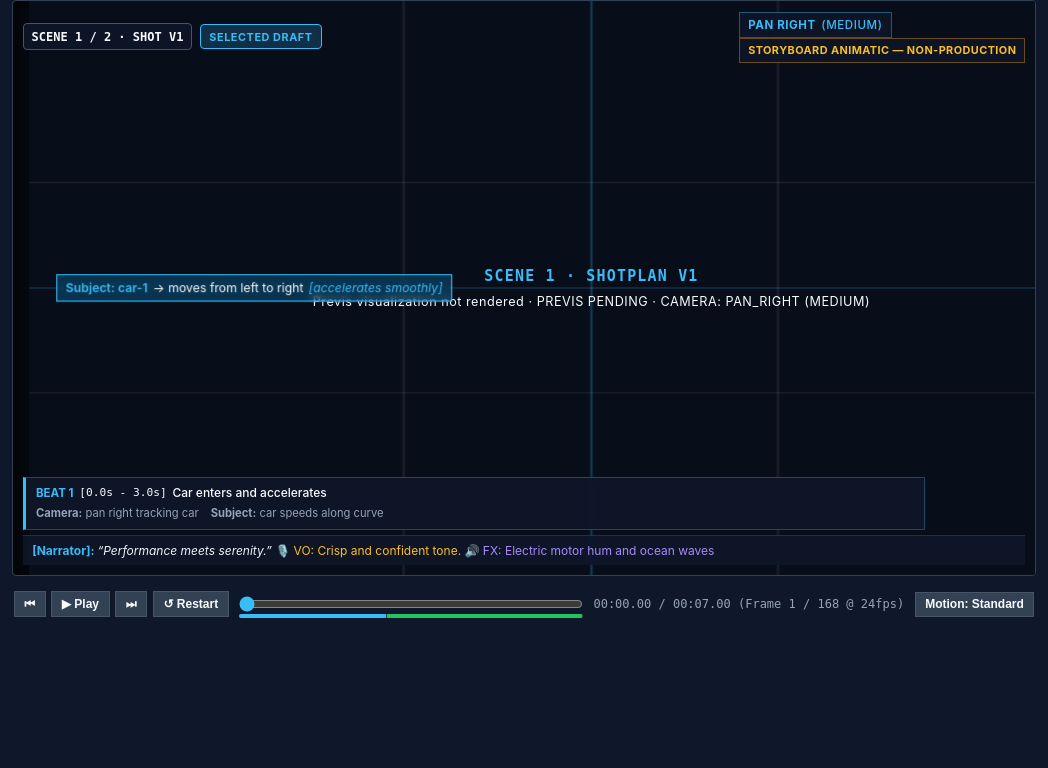
Scenario: CampaignAnimaticPlayer Component › scrubs continuously across scenes and transitions between segments
This screenshot has width=1048, height=768.
Expected: the text with test id "animatic-scene-ordinal" shows "SCENE 1 / 2", [23,24,192,50]
Expected: the text with test id "animatic-shot-approval-badge" reads "SELECTED DRAFT", [209,30,313,44]
# Scrub to 3500ms (scene 2)
Set the slider with test id "animatic-scrubber" to "3500" at coordinates (411, 604), box [239,596,583,612]
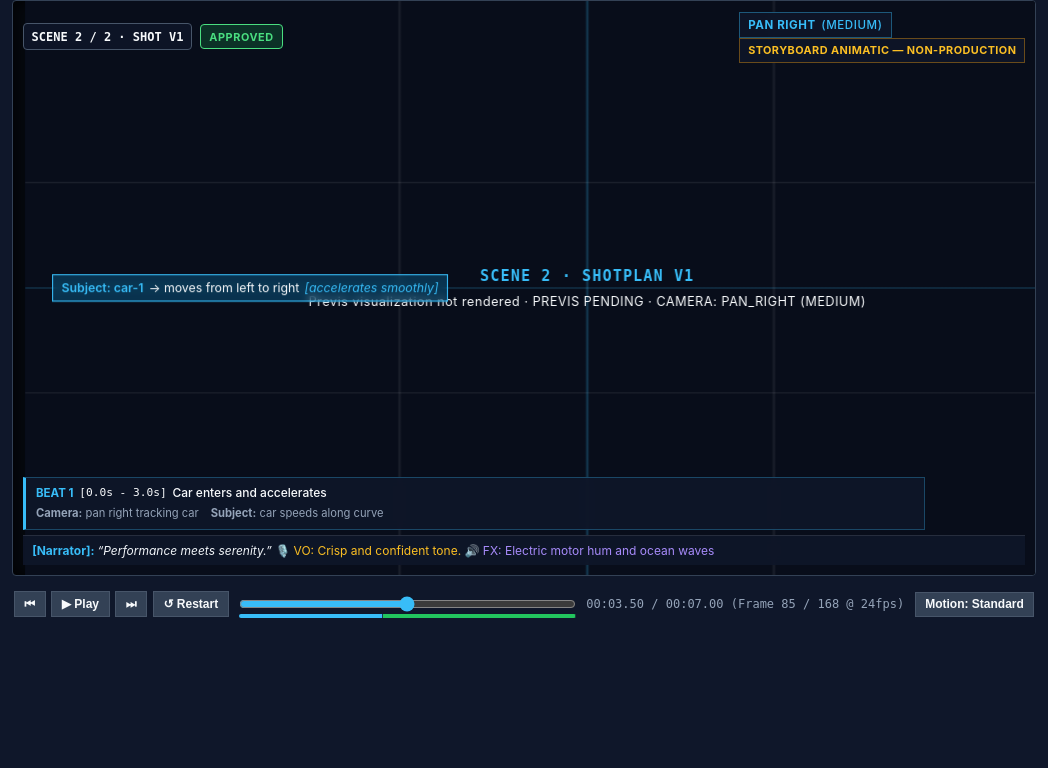
Expected: the text with test id "animatic-scene-ordinal" shows "SCENE 2 / 2", [23,24,192,50]
Expected: the text with test id "animatic-shot-approval-badge" reads "APPROVED", [209,30,274,44]
Expected: the element with test id "animatic-time-display" shows "00:03.50 / 00:07.00", [586,595,904,613]
